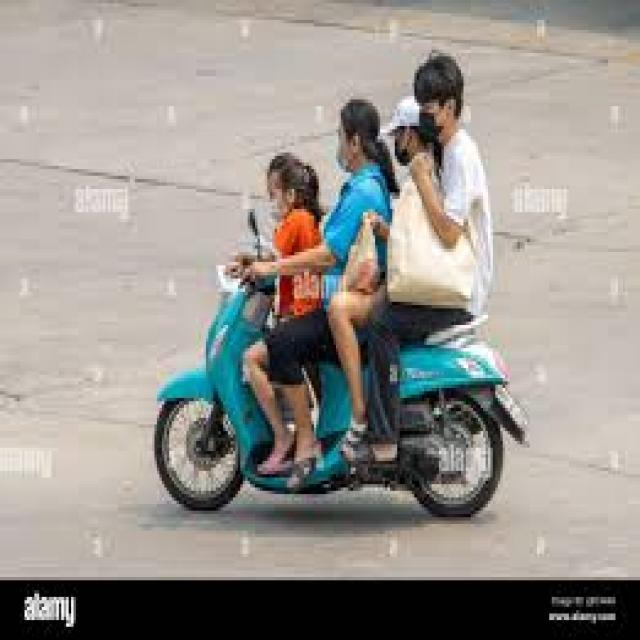Not Wearing Helmet: (306, 101, 383, 187)
Triple Riding: (200, 134, 560, 536)
